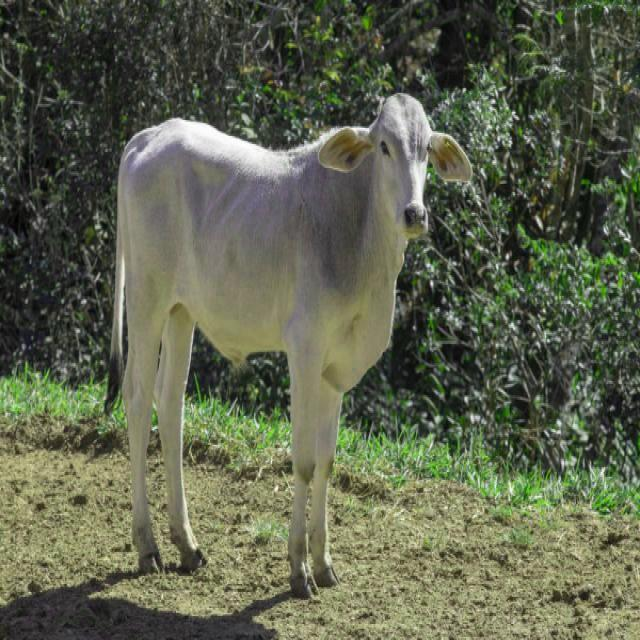cow: (106, 94, 471, 597)
